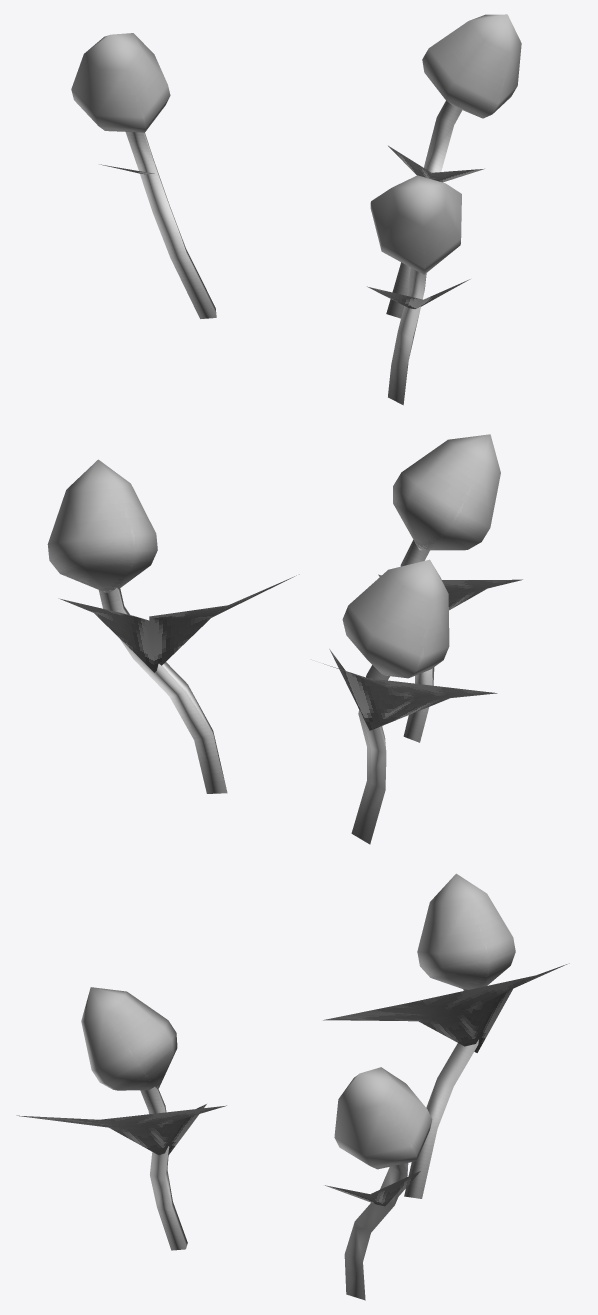
Rendered from PltFlwAnemone0.glb.
The picture shows the model from 3 angles, top to bottom: view 1: azimuth 30°, elevation 25°; view 2: azimuth 150°, elevation 25°; view 3: azimuth 270°, elevation 25°; orthographic projection. The views are drawn at different scales.
Parts seen in each view (by area): view 1: pCylinder2_1__mAnemoneFlower, Collar5_1__mAnemoneBody; view 2: pCylinder2_1__mAnemoneFlower, Collar5_1__mAnemoneBody; view 3: pCylinder2_1__mAnemoneFlower, Collar5_1__mAnemoneBody.
Boxes of the visible parts, x1,y1,x2,y2 form: pCylinder2_1__mAnemoneFlower: (71, 14, 521, 274); Collar5_1__mAnemoneBody: (99, 100, 484, 405); pCylinder2_1__mAnemoneFlower: (47, 434, 500, 678); Collar5_1__mAnemoneBody: (58, 540, 522, 844); pCylinder2_1__mAnemoneFlower: (81, 873, 515, 1169); Collar5_1__mAnemoneBody: (16, 963, 569, 1300).
Bounding box in the file's own units: 8.96 × 5.51 × 9.29.
Materials: 2 (2 with a texture image).
